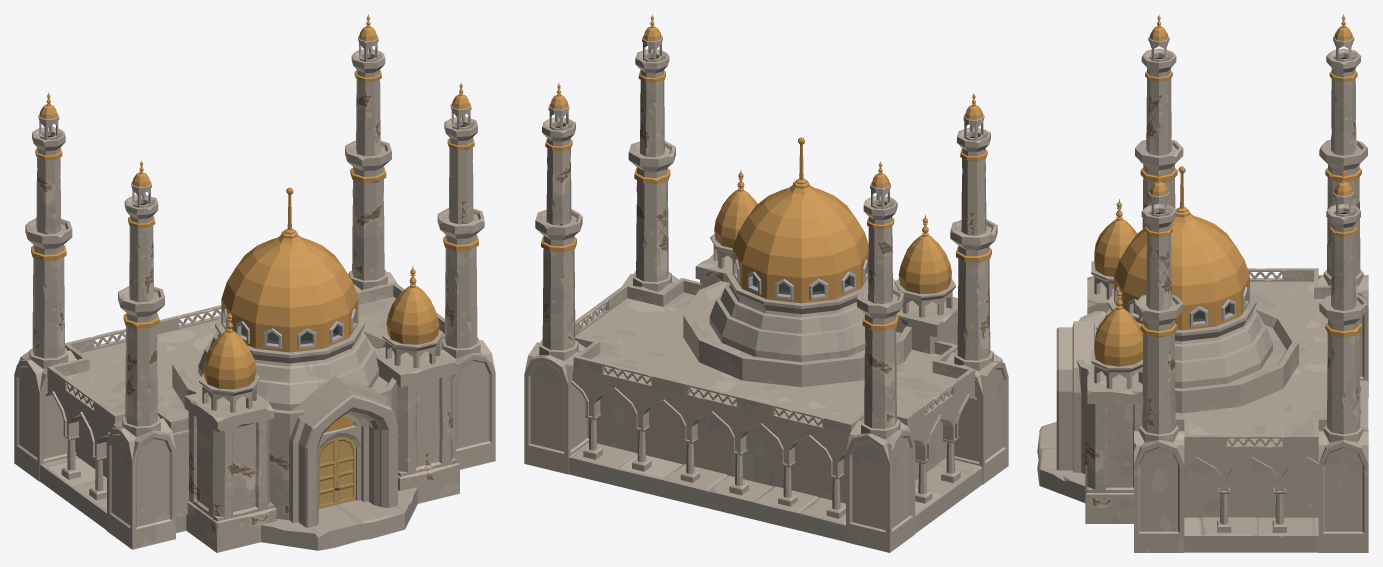
Rendered from SM_Bld_Hall_02.fbx.
The picture shows the model from 3 angles, left to right: view 1: azimuth 30°, elevation 25°; view 2: azimuth 150°, elevation 25°; view 3: azimuth 270°, elevation 25°; orthographic projection.
Parts seen in each view (by area): view 1: SM_Bld_Hall_02, SM_Bld_Hall_01_Door_2, SM_Bld_Hall_01_Door_1; view 2: SM_Bld_Hall_02; view 3: SM_Bld_Hall_02.
Boxes of the visible parts, x1=… form: SM_Bld_Hall_02: x1=14, y1=14, x2=495, y2=552; SM_Bld_Hall_01_Door_2: x1=336, y1=437, x2=355, y2=504; SM_Bld_Hall_01_Door_1: x1=318, y1=438, x2=337, y2=508; SM_Bld_Hall_02: x1=524, y1=14, x2=1008, y2=552; SM_Bld_Hall_02: x1=1037, y1=14, x2=1368, y2=552.
Size of the model in its own units: 2247 by 2218 by 1786.
